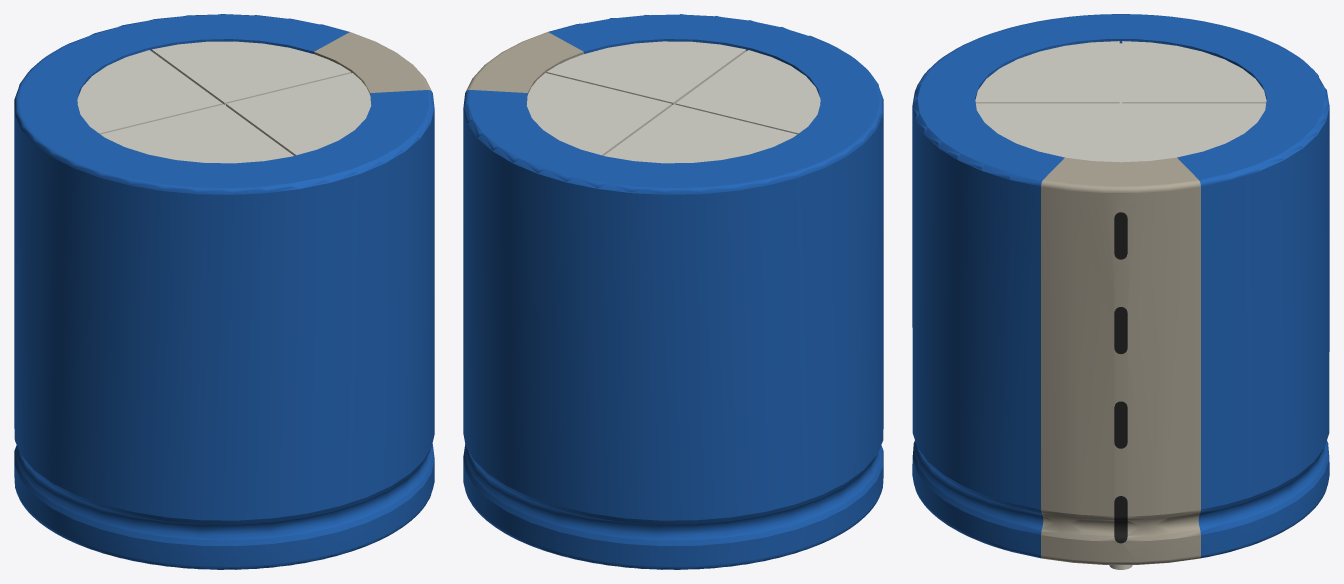
The model's file is kc-cp_radial_d16.0mm_p7.50mm.glb.
3 views of the same model, side by side, from view 1: azimuth 30°, elevation 25°; view 2: azimuth 150°, elevation 25°; view 3: azimuth 270°, elevation 25° (orthographic).
Parts seen in each view (by area): view 1: 0_0.16666666666666666_0.5_0, 0.6666666666666666_0.6666666666666666_0.5833333333333334_0.8, 0.4166666666666667_0.4166666666666667_0.3333333333333333_0; view 2: 0_0.16666666666666666_0.5_0, 0.6666666666666666_0.6666666666666666_0.5833333333333334_0.8, 0.4166666666666667_0.4166666666666667_0.3333333333333333_0; view 3: 0_0.16666666666666666_0.5_0, 0.4166666666666667_0.4166666666666667_0.3333333333333333_0, 0.6666666666666666_0.6666666666666666_0.5833333333333334_0.8, 0_0_0_0.
Part boxes in pixels (left/top/right/bottom): 0_0.16666666666666666_0.5_0: left=14, top=14, right=434, bottom=569; 0.6666666666666666_0.6666666666666666_0.5833333333333334_0.8: left=77, top=41, right=371, bottom=163; 0.4166666666666667_0.4166666666666667_0.3333333333333333_0: left=314, top=32, right=431, bottom=94; 0_0.16666666666666666_0.5_0: left=463, top=14, right=883, bottom=569; 0.6666666666666666_0.6666666666666666_0.5833333333333334_0.8: left=526, top=41, right=820, bottom=163; 0.4166666666666667_0.4166666666666667_0.3333333333333333_0: left=466, top=32, right=583, bottom=94; 0_0.16666666666666666_0.5_0: left=912, top=14, right=1329, bottom=558; 0.4166666666666667_0.4166666666666667_0.3333333333333333_0: left=1041, top=157, right=1200, bottom=564; 0.6666666666666666_0.6666666666666666_0.5833333333333334_0.8: left=975, top=41, right=1266, bottom=569; 0_0_0_0: left=1114, top=212, right=1127, bottom=543.
Bounding box in the file's own units: 1.6 × 1.8 × 1.6.
